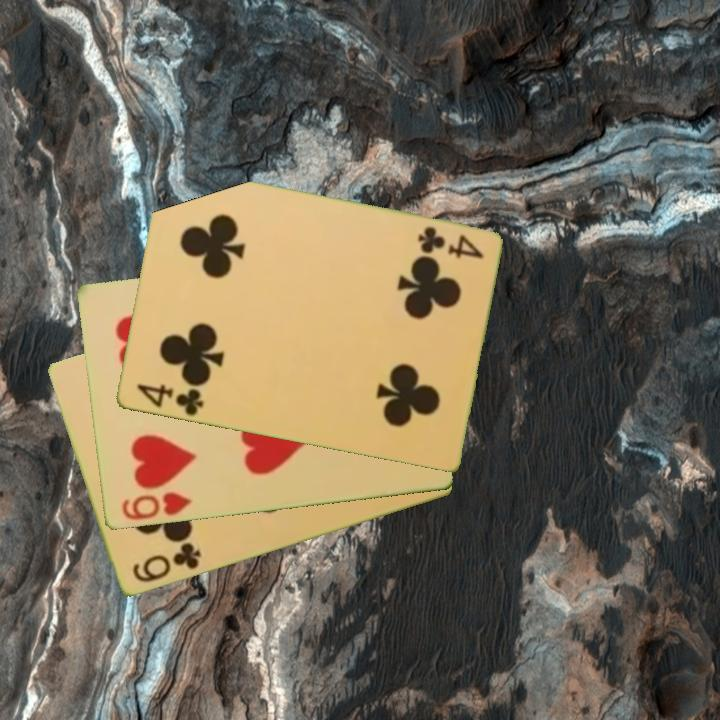4c: (413, 223, 486, 262), (133, 381, 206, 419)
6c: (128, 539, 204, 586)
6h: (118, 488, 195, 524)
